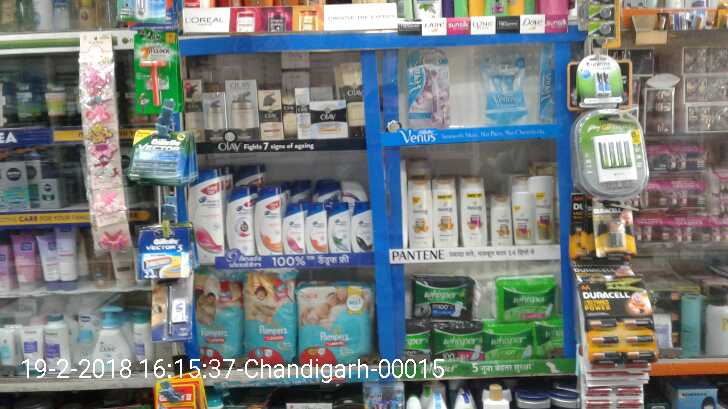gillete: (131, 129, 194, 187), (137, 224, 186, 280), (152, 280, 188, 340)
venus: (480, 48, 531, 124), (406, 50, 449, 129)
